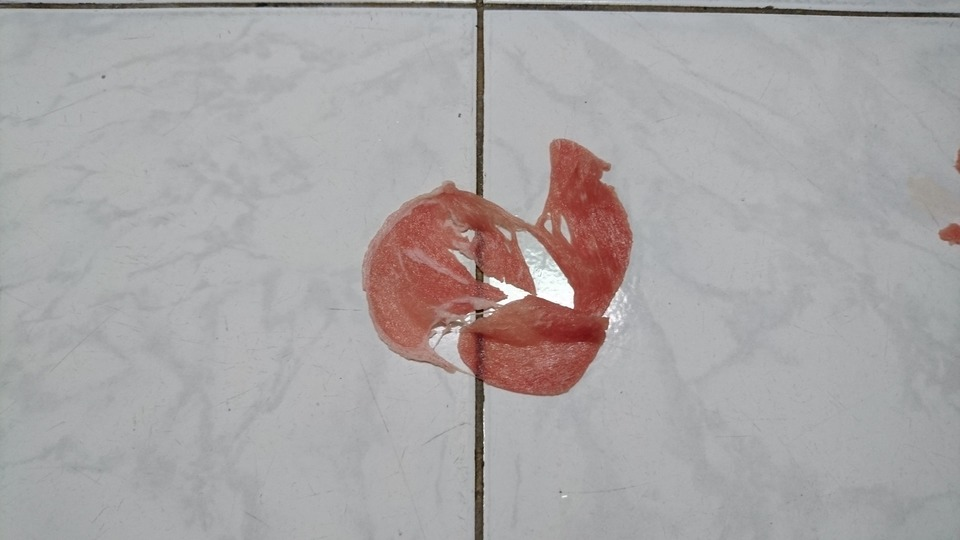restructured meat: (364, 129, 640, 398)
